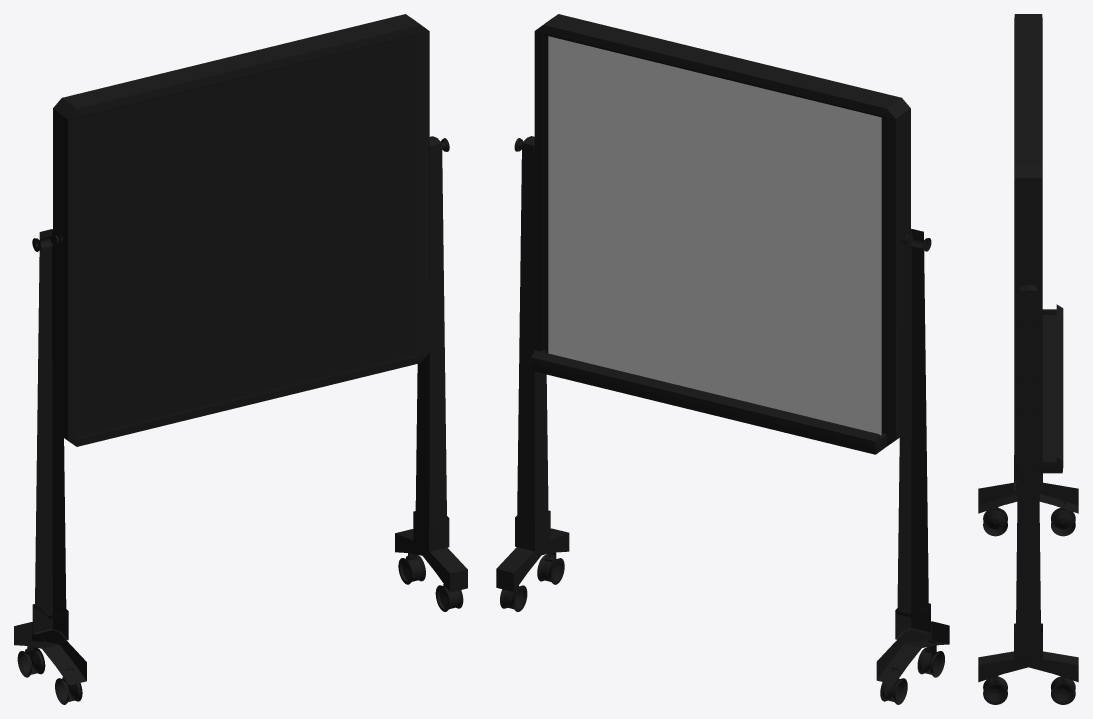
File: WhiteBoard.obj
3 views of the same model, side by side, from view 1: azimuth 30°, elevation 25°; view 2: azimuth 150°, elevation 25°; view 3: azimuth 270°, elevation 25° (orthographic). The views are drawn at different scales.
Parts seen in each view (by area): view 1: Cylinder.005; view 2: Cylinder.005; view 3: Cylinder.005.
Boxes of the visible parts, box(x1,y1,x2,y2) form: Cylinder.005: box(14, 14, 467, 704); Cylinder.005: box(496, 14, 949, 704); Cylinder.005: box(978, 14, 1078, 704).
Bounding box in the file's own units: 4.11 × 5.56 × 0.9579.
2 materials, 2 textured.
